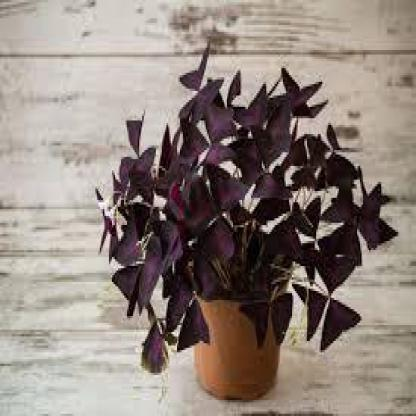Kupu-Kupu: (301, 254, 360, 347), (193, 172, 246, 260), (173, 40, 225, 124), (113, 154, 154, 204)
